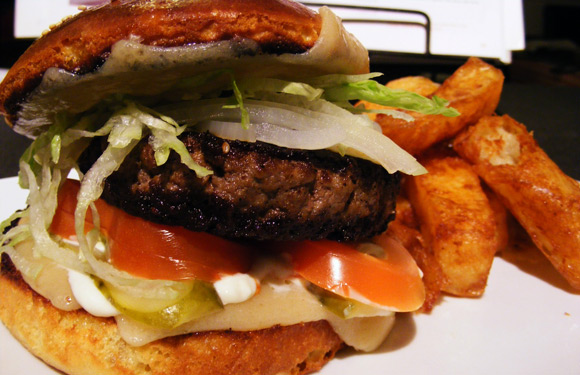hamburger_buns: (1, 1, 385, 181)
